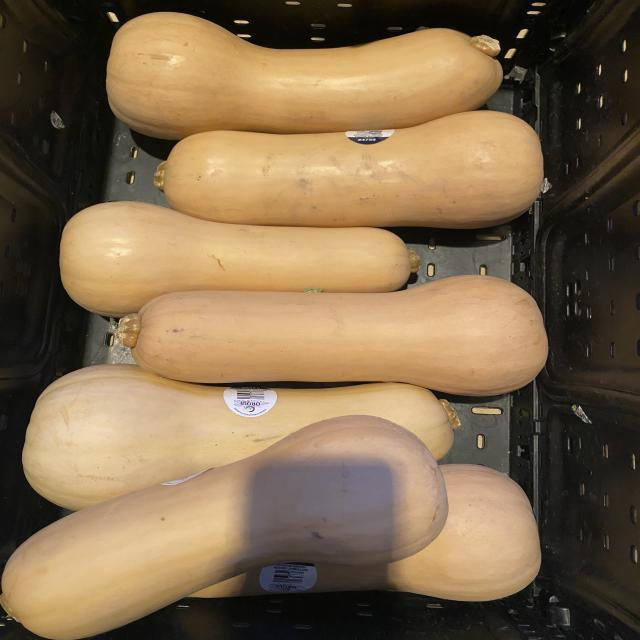Squash: (2, 415, 448, 640), (23, 364, 458, 510), (107, 12, 503, 140), (132, 275, 548, 396), (192, 464, 542, 601), (162, 111, 543, 229), (60, 201, 412, 318)
